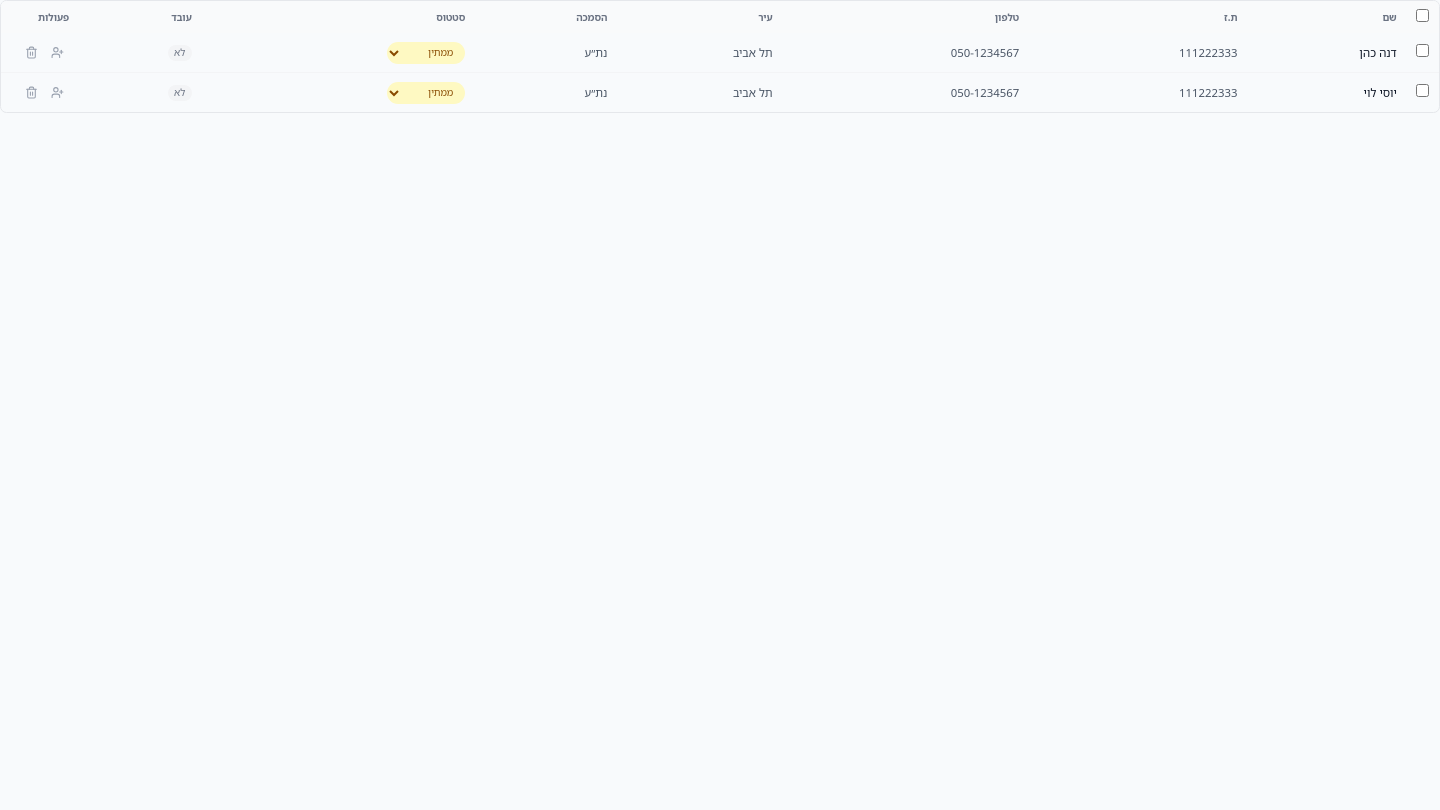
CandidatesTable — bulk delete › clicking the bulk-delete button opens the DeleteDialog with selected names
This screenshot has width=1440, height=810.
Click the checkbox named "בחר דנה כהן". click: click(1423, 51)
box: [1416,44,1429,57]
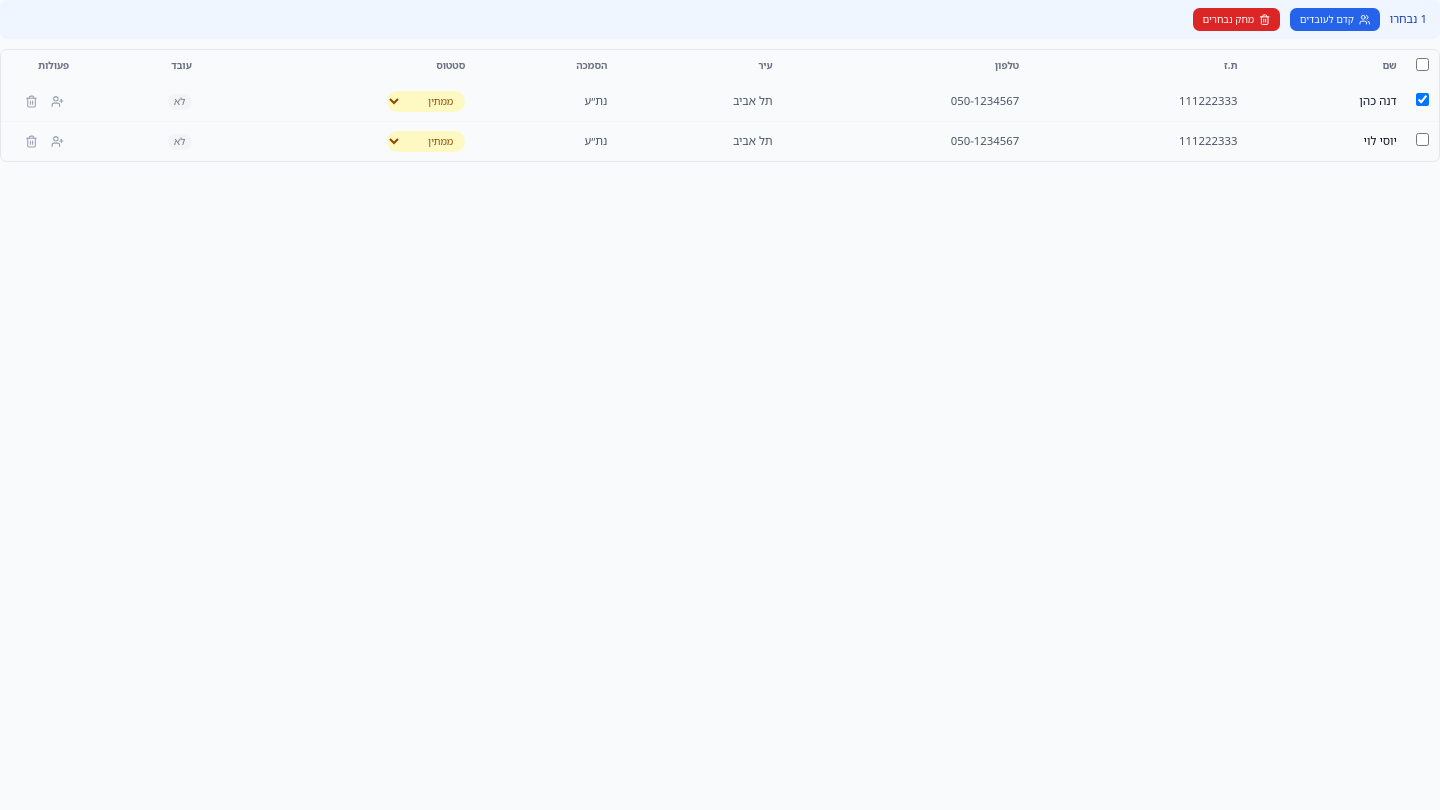
Click the checkbox named "בחר יוסי לוי". click: click(1423, 139)
box: [1416,133,1429,146]
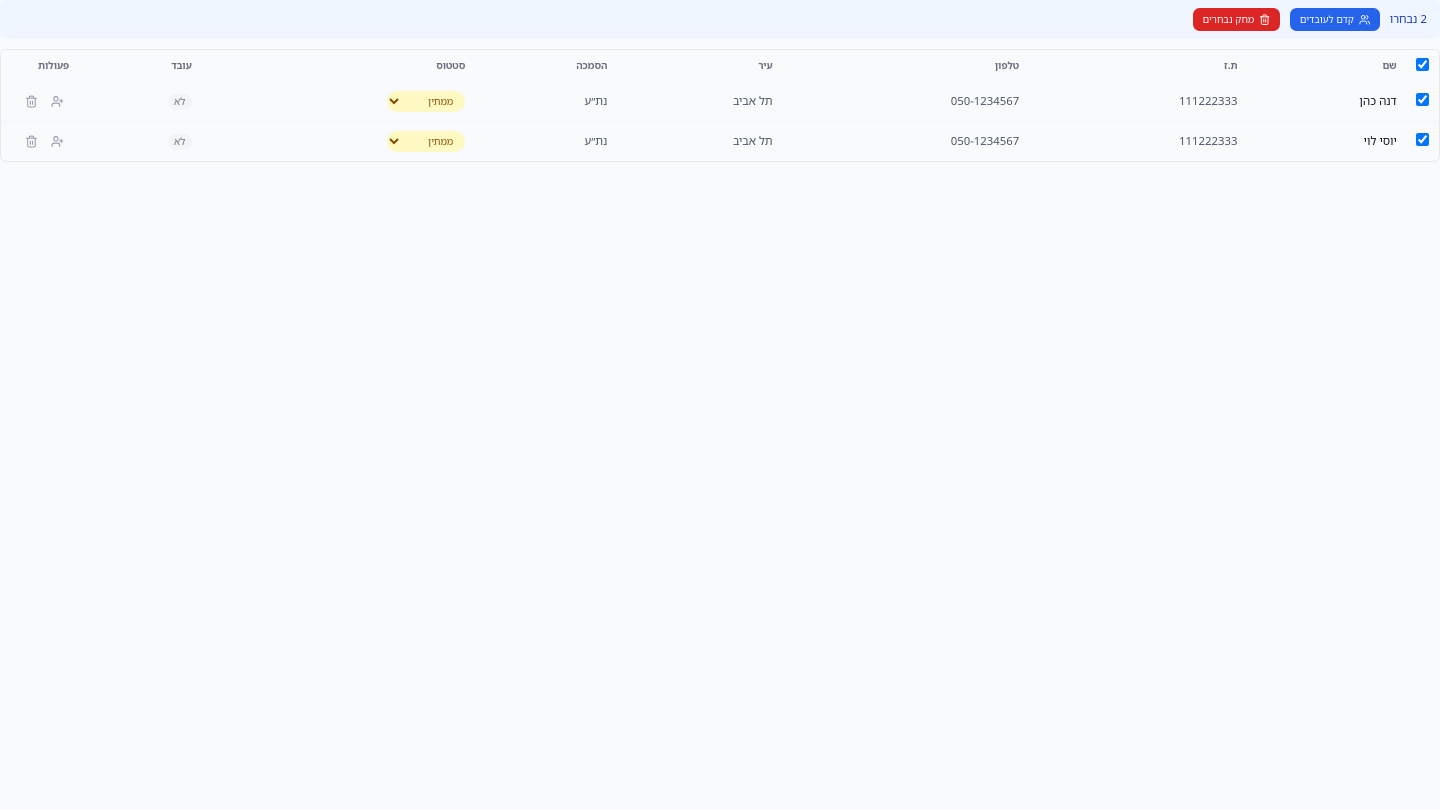
Click the button "מחק נבחרים". click: click(1237, 20)
box: [1193,8,1280,31]
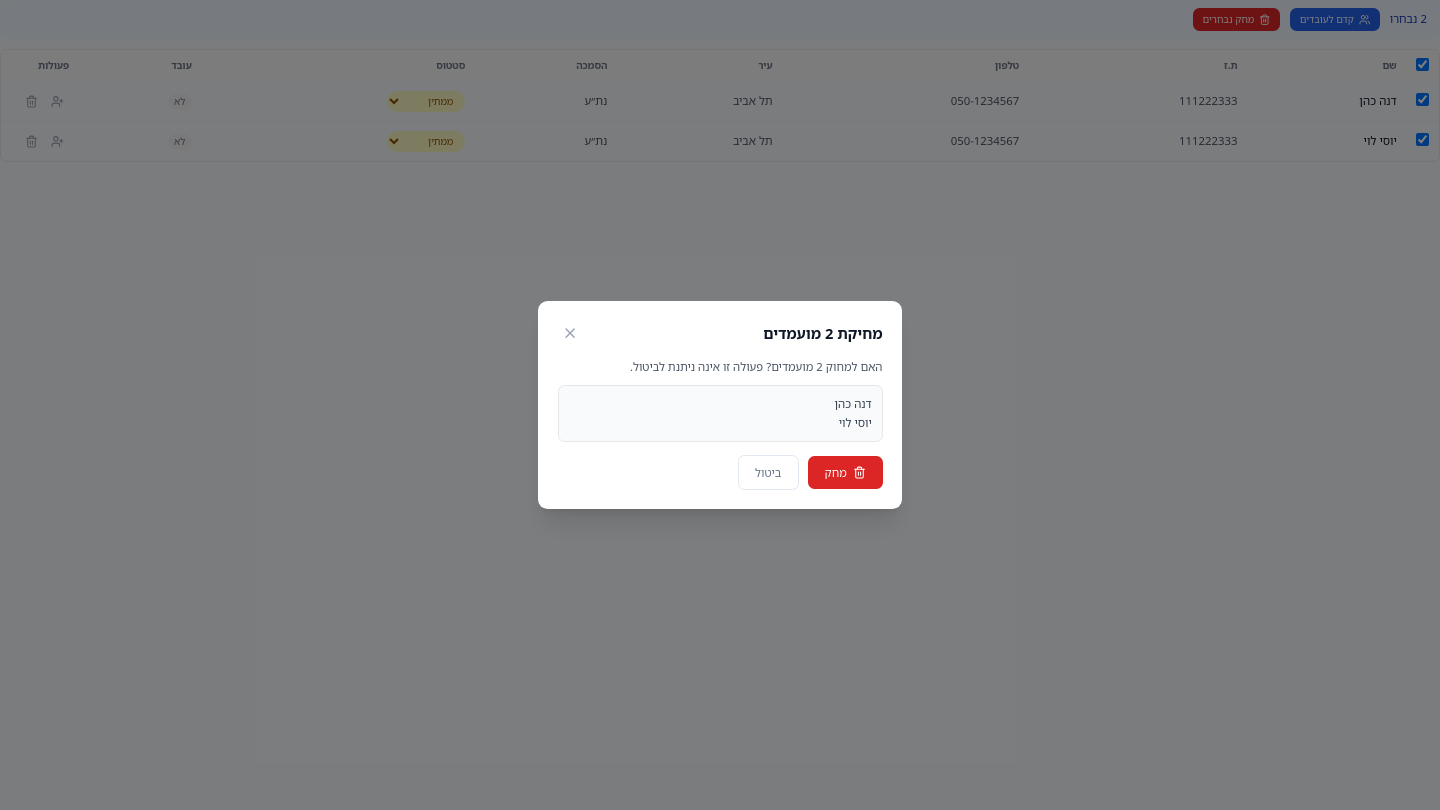
Result: the dialog "מחיקת 2 מועמדים" is shown
Result: the list item "דנה כהן" is shown at [834,396,872,411]
Result: the list item "יוסי לוי" is shown at [839,415,872,430]
